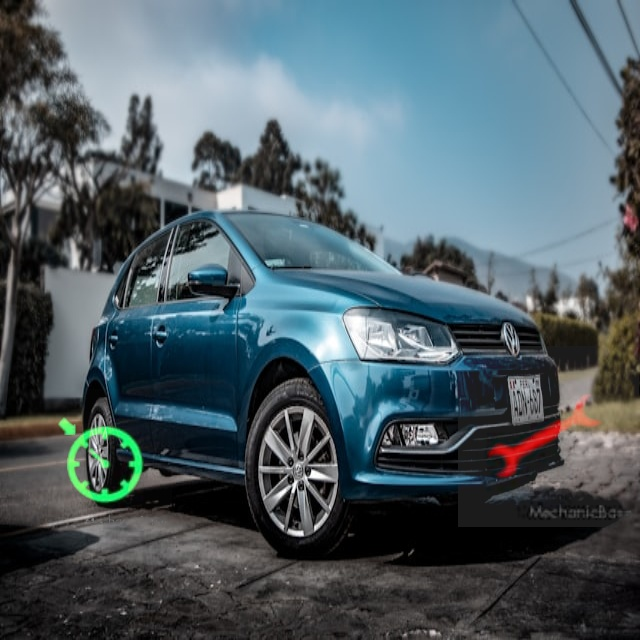symbol: (458, 346, 639, 527), (28, 389, 172, 533)
